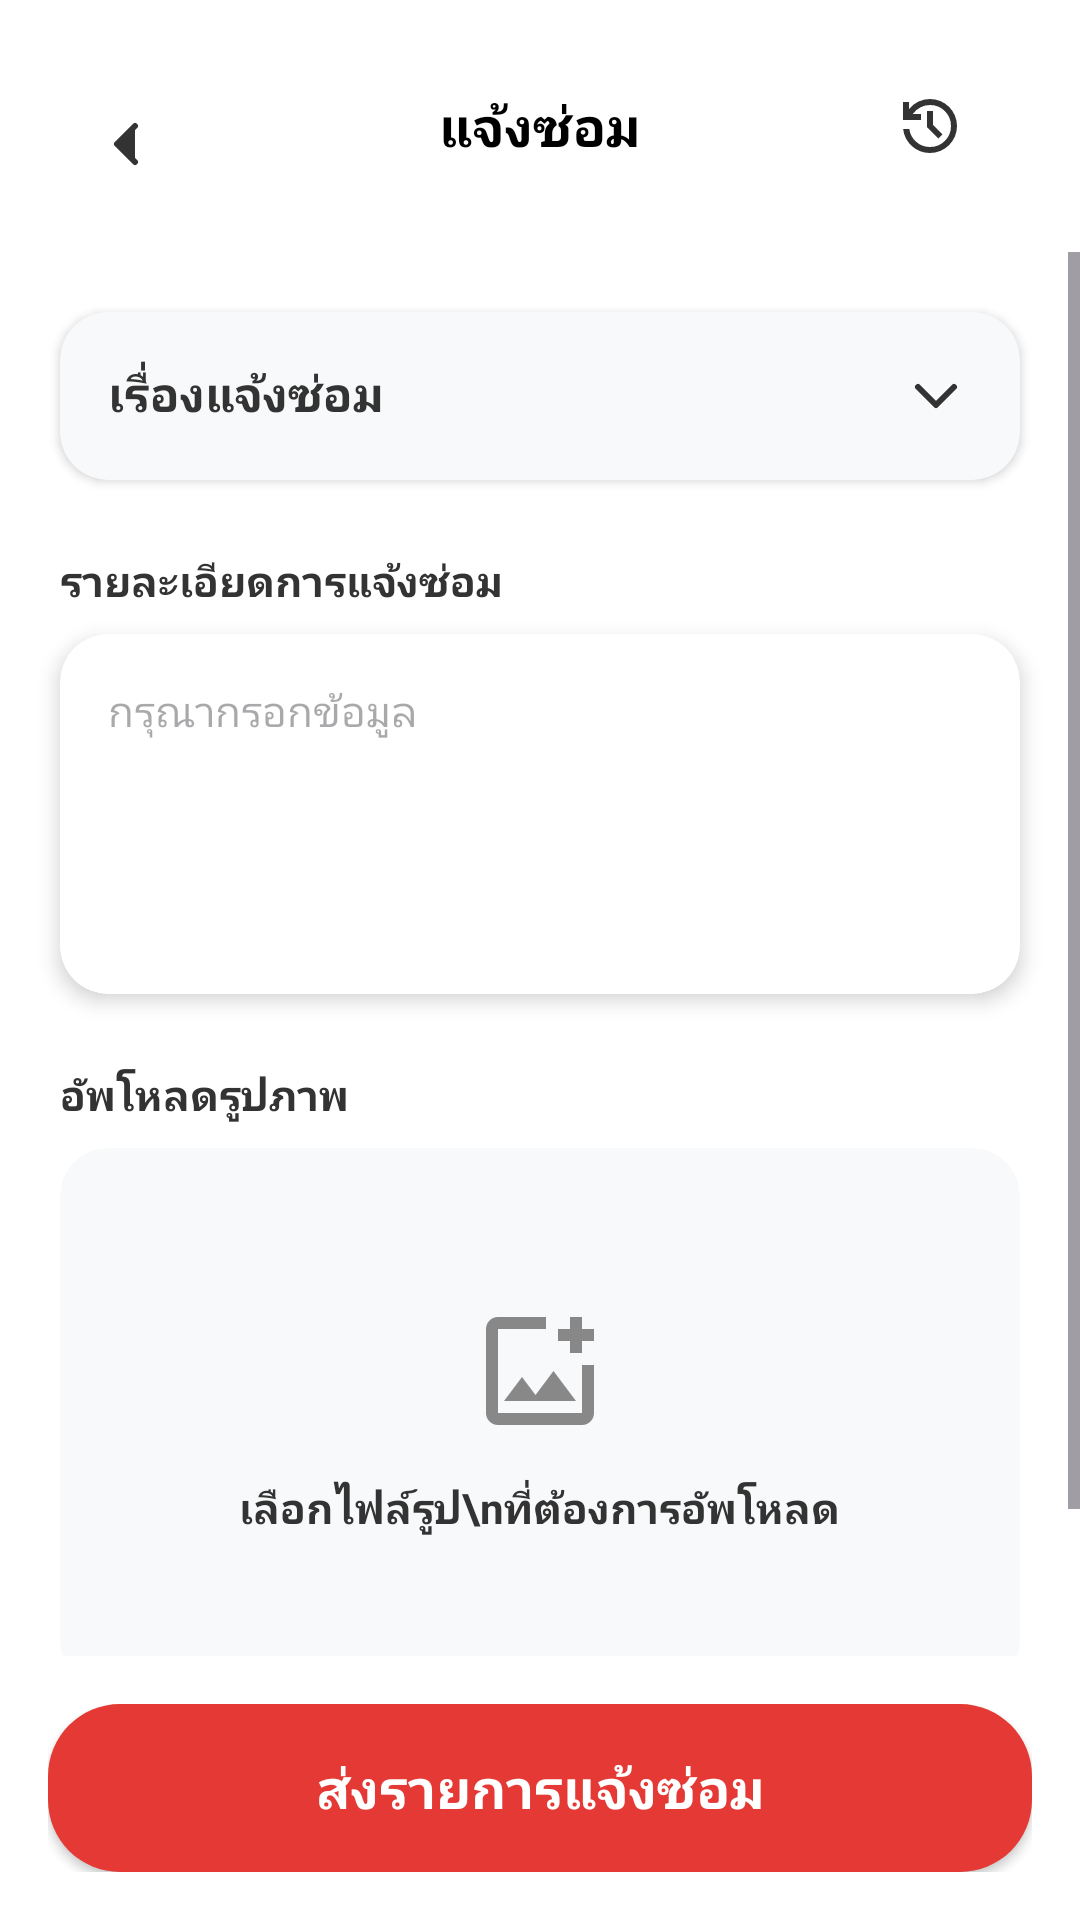

Locate icon controls on the screen. Image size 1080 × 1920, boxes as Rect(x1, y1, x2, y2).
add photo gg: Rect(486, 1317, 594, 1425)
back gg: Rect(114, 123, 138, 165)
chevron down gg: Rect(915, 384, 957, 408)
history gg: Rect(903, 99, 957, 153)
